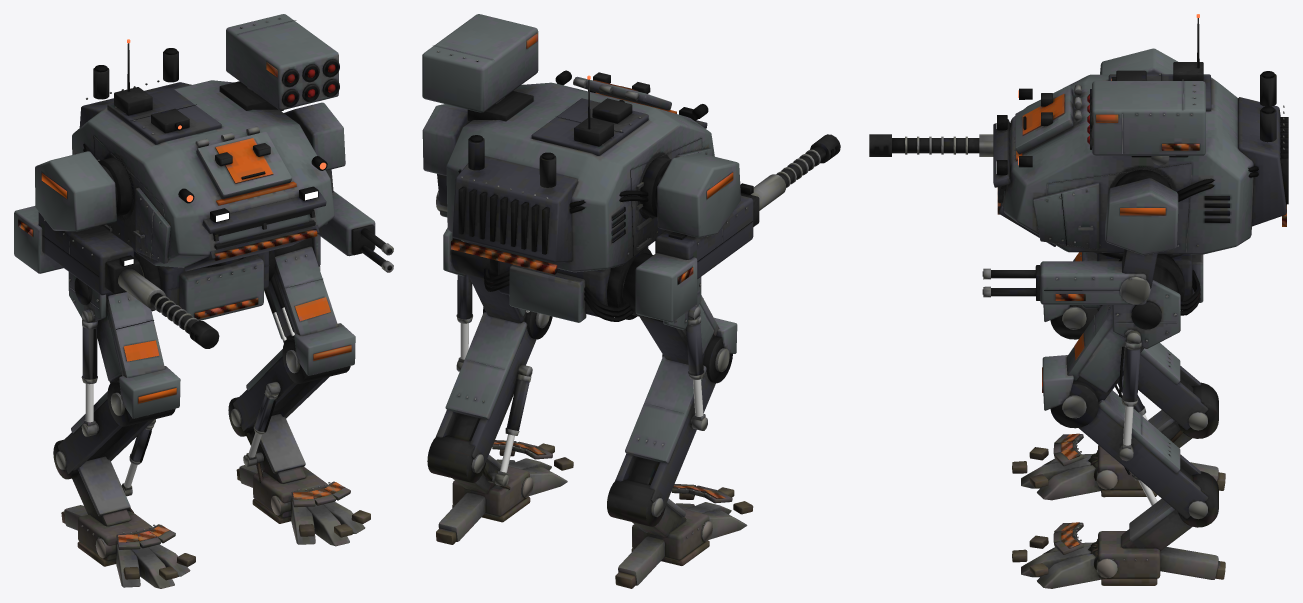
The model's file is combat-mech-lod1.glb.
3 renders of one model, left to right at view 1: azimuth 30°, elevation 25°; view 2: azimuth 150°, elevation 25°; view 3: azimuth 270°, elevation 25°, orthographic. The views are drawn at different scales.
Parts seen in each view (by area): view 1: torso_mesh, arm_R_mesh, missile_pod_mesh, knee_R_mesh, knee_L_mesh, body, hip_R_mesh, ankle_R_mesh, ankle_L_mesh, arm_L_mesh, hip_L_mesh, hatch_mesh (+10 smaller); view 2: torso_mesh, arm_R_mesh, knee_R_mesh, missile_pod_mesh, knee_L_mesh, body, ankle_R_mesh, ankle_L_mesh, hip_R_mesh, arm_L_mesh, hip_L_mesh, hatch_mesh (+7 smaller); view 3: torso_mesh, arm_L_mesh, missile_pod_mesh, knee_L_mesh, ankle_L_mesh, hip_L_mesh, knee_R_mesh, ankle_R_mesh, arm_R_mesh, hatch_mesh, body, toe_out_L_mesh (+5 smaller).
Part boxes in pixels (x1=…): torso_mesh: x1=72, y1=43, x2=334, y2=271; arm_R_mesh: x1=14, y1=151, x2=219, y2=348; missile_pod_mesh: x1=226, y1=14, x2=339, y2=110; knee_R_mesh: x1=58, y1=366, x2=180, y2=473; knee_L_mesh: x1=233, y1=323, x2=355, y2=431; body: x1=134, y1=250, x2=275, y2=320; hip_R_mesh: x1=68, y1=255, x2=164, y2=383; ankle_R_mesh: x1=53, y1=439, x2=152, y2=566; ankle_L_mesh: x1=228, y1=397, x2=327, y2=523; arm_L_mesh: x1=284, y1=102, x2=393, y2=272; hip_L_mesh: x1=264, y1=234, x2=337, y2=342; hatch_mesh: x1=195, y1=126, x2=291, y2=199; torso_mesh: x1=446, y1=70, x2=714, y2=274; arm_R_mesh: x1=635, y1=134, x2=840, y2=322; knee_R_mesh: x1=615, y1=317, x2=737, y2=512; missile_pod_mesh: x1=422, y1=14, x2=538, y2=112; knee_L_mesh: x1=435, y1=307, x2=552, y2=468; body: x1=484, y1=246, x2=652, y2=322; ankle_R_mesh: x1=607, y1=479, x2=712, y2=588; ankle_L_mesh: x1=427, y1=435, x2=533, y2=544; hip_R_mesh: x1=623, y1=253, x2=719, y2=364; arm_L_mesh: x1=422, y1=104, x2=469, y2=217; hip_L_mesh: x1=443, y1=228, x2=526, y2=323; hatch_mesh: x1=573, y1=72, x2=671, y2=110; torso_mesh: x1=993, y1=18, x2=1288, y2=254; arm_L_mesh: x1=982, y1=178, x2=1178, y2=304; missile_pod_mesh: x1=1087, y1=79, x2=1205, y2=165; knee_L_mesh: x1=1042, y1=355, x2=1208, y2=518; ankle_L_mesh: x1=1096, y1=471, x2=1225, y2=585; hip_L_mesh: x1=1066, y1=264, x2=1180, y2=401; knee_R_mesh: x1=1043, y1=305, x2=1208, y2=430; ankle_R_mesh: x1=1096, y1=382, x2=1225, y2=497; arm_R_mesh: x1=869, y1=48, x2=1177, y2=156; hatch_mesh: x1=1015, y1=84, x2=1081, y2=154; body: x1=1080, y1=252, x2=1203, y2=315; toe_out_L_mesh: x1=1029, y1=535, x2=1101, y2=588.
Size of the model in its own units: 4.33 by 7.21 by 5.52.
Materials: 5 (1 with a texture image).
